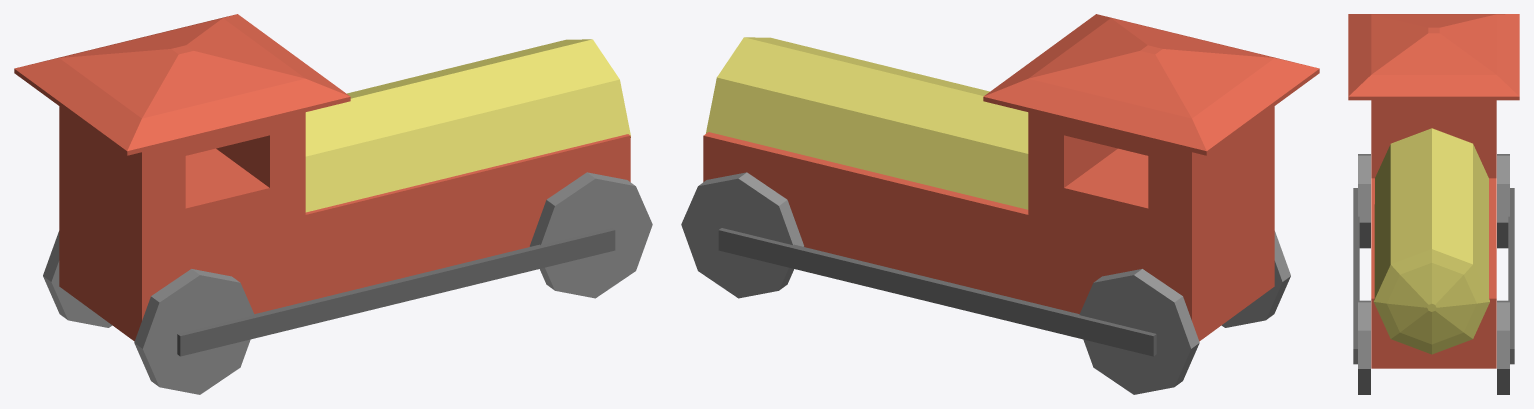
The model's file is Train.fbx.
3 views of the same model, side by side, from view 1: azimuth 30°, elevation 25°; view 2: azimuth 150°, elevation 25°; view 3: azimuth 270°, elevation 25° (orthographic). The views are drawn at different scales.
Visible parts, largest first — view 1: Cube.001; view 2: Cube.001; view 3: Cube.001.
Part boxes in pixels (bbox=[...]): Cube.001: bbox=[14, 14, 652, 394]; Cube.001: bbox=[681, 14, 1319, 394]; Cube.001: bbox=[1348, 14, 1519, 394].
Size of the model in its own units: 116 by 61.95 by 42.2.
